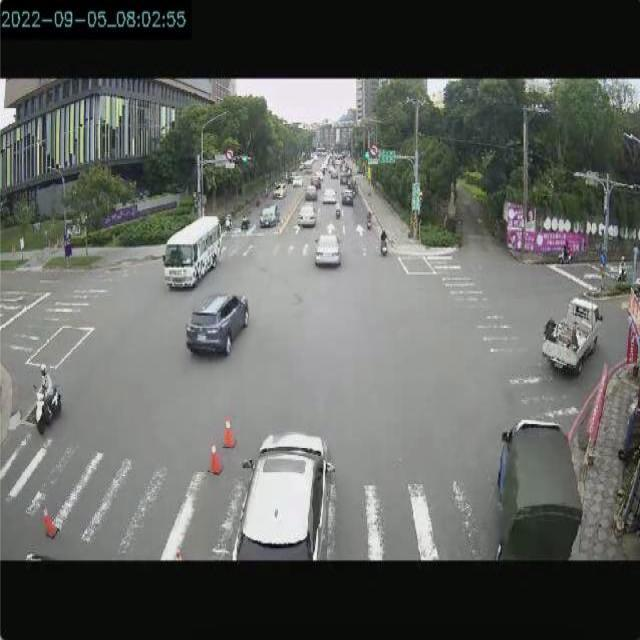Bus: (162, 214, 222, 289)
Car: (232, 430, 335, 561), (183, 292, 249, 356)
Motorcycle: (31, 382, 61, 435)
Truck: (540, 295, 602, 375)
